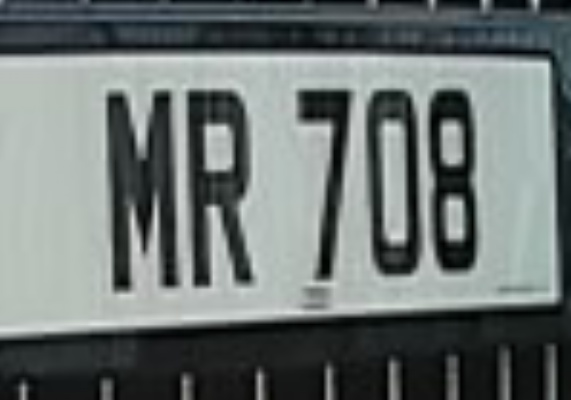0: (357, 73, 433, 284)
7: (282, 80, 364, 287)
8: (421, 76, 482, 282)
M: (87, 78, 190, 305)
R: (182, 77, 267, 304)
